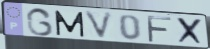0: (117, 14, 143, 42)
F: (145, 14, 174, 44)
G: (26, 7, 55, 38)
M: (53, 9, 86, 38)
V: (82, 10, 115, 42)
X: (175, 16, 206, 47)
